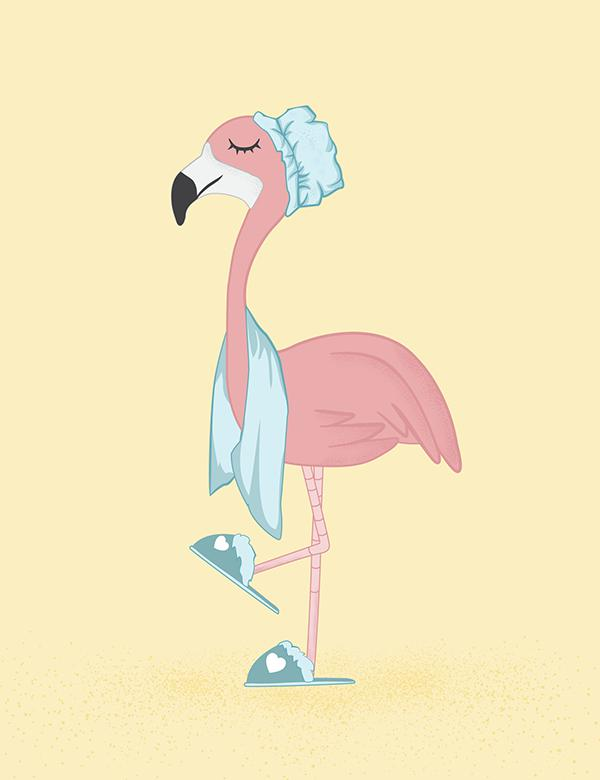bird: (131, 71, 474, 714)
